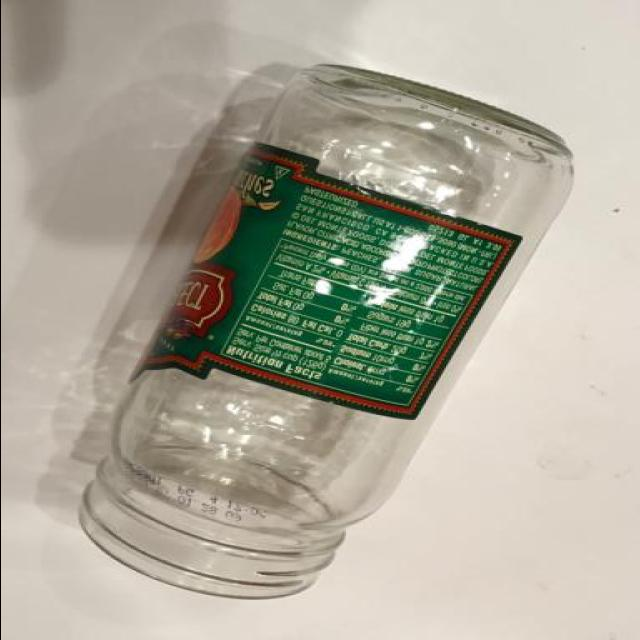glass: (66, 43, 586, 607)
